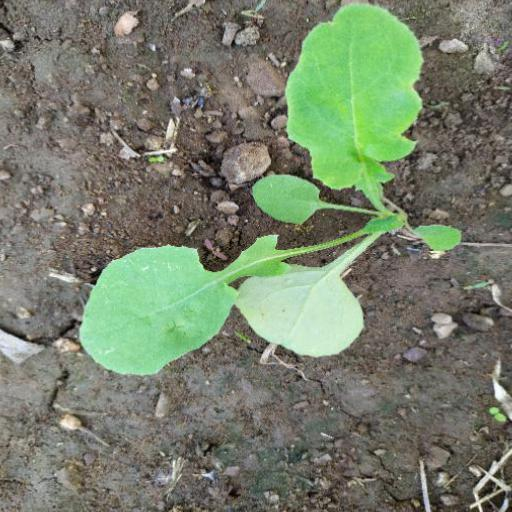weed: (71, 4, 459, 383)
